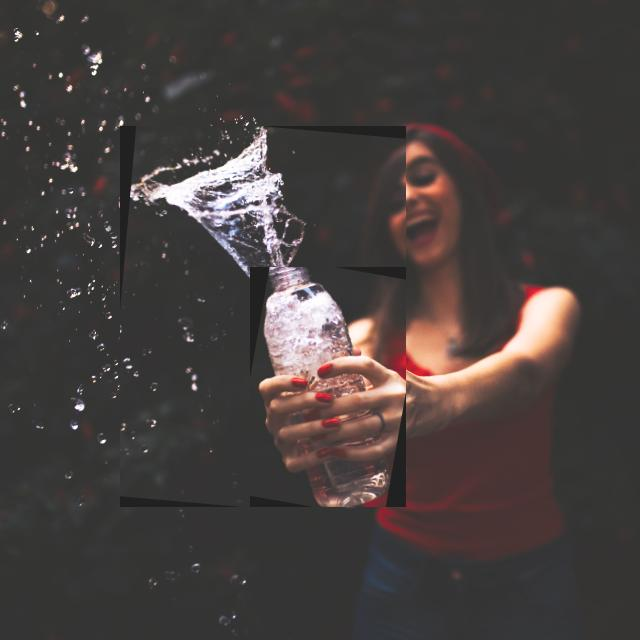Bottle: (120, 127, 363, 395), (250, 268, 363, 396)
